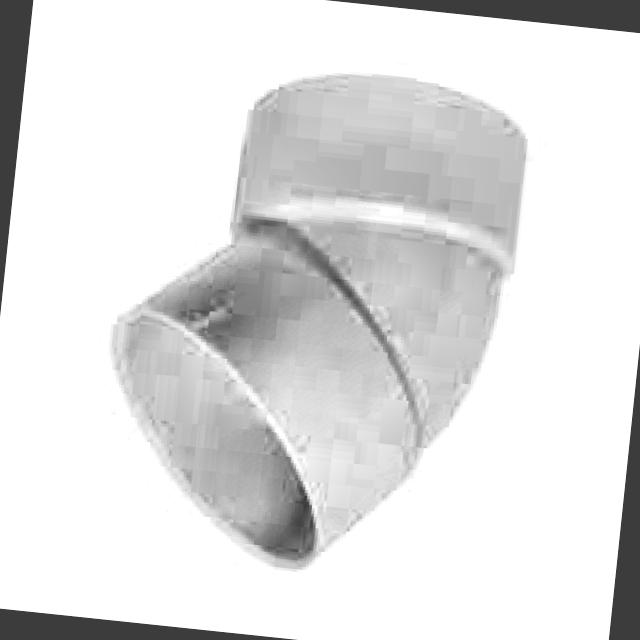ELBOW45: (110, 68, 532, 569)
